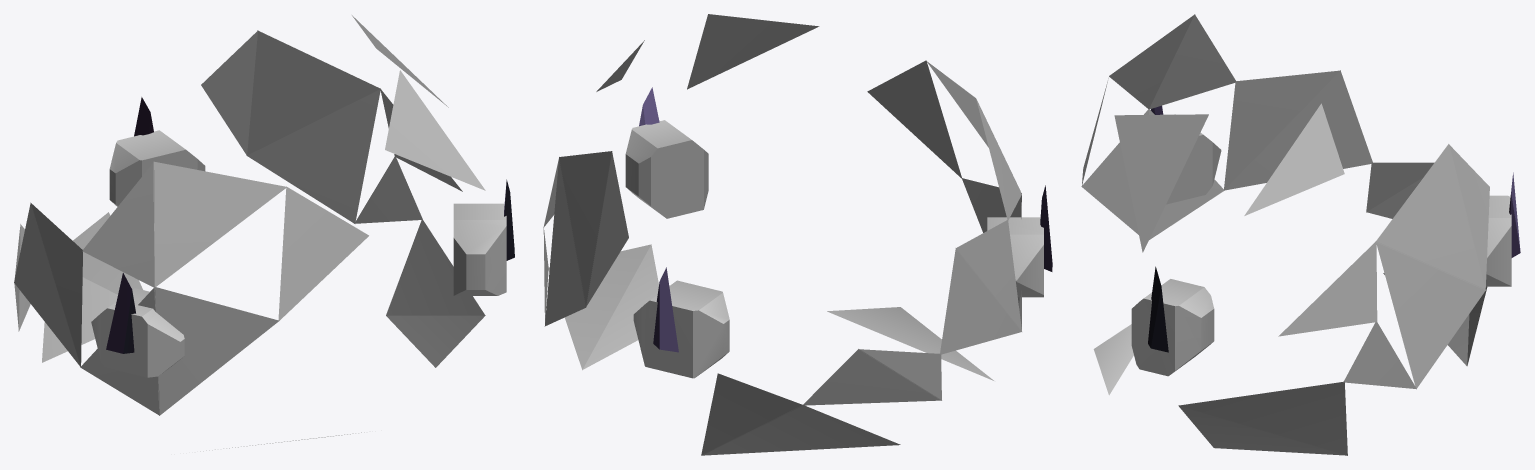
The model's file is vein_rock_a_obsidian_low.glb.
3 renders of one model, left to right at view 1: azimuth 30°, elevation 25°; view 2: azimuth 150°, elevation 25°; view 3: azimuth 270°, elevation 25°, orthographic. The views are drawn at different scales.
Bounding box in the file's own units: 1.62 × 1.22 × 1.47.
